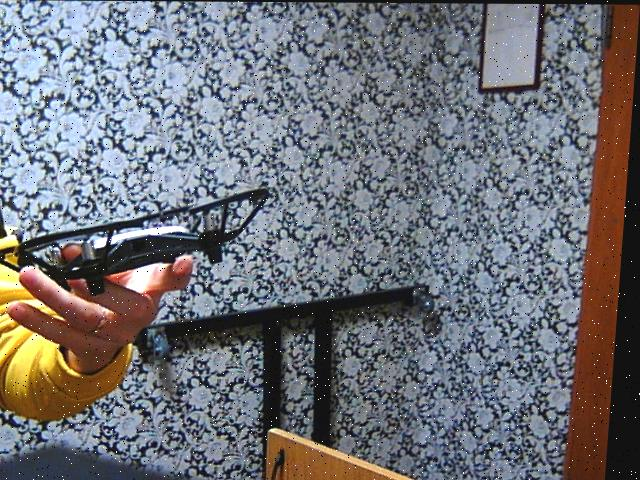drone: (0, 173, 289, 319)
